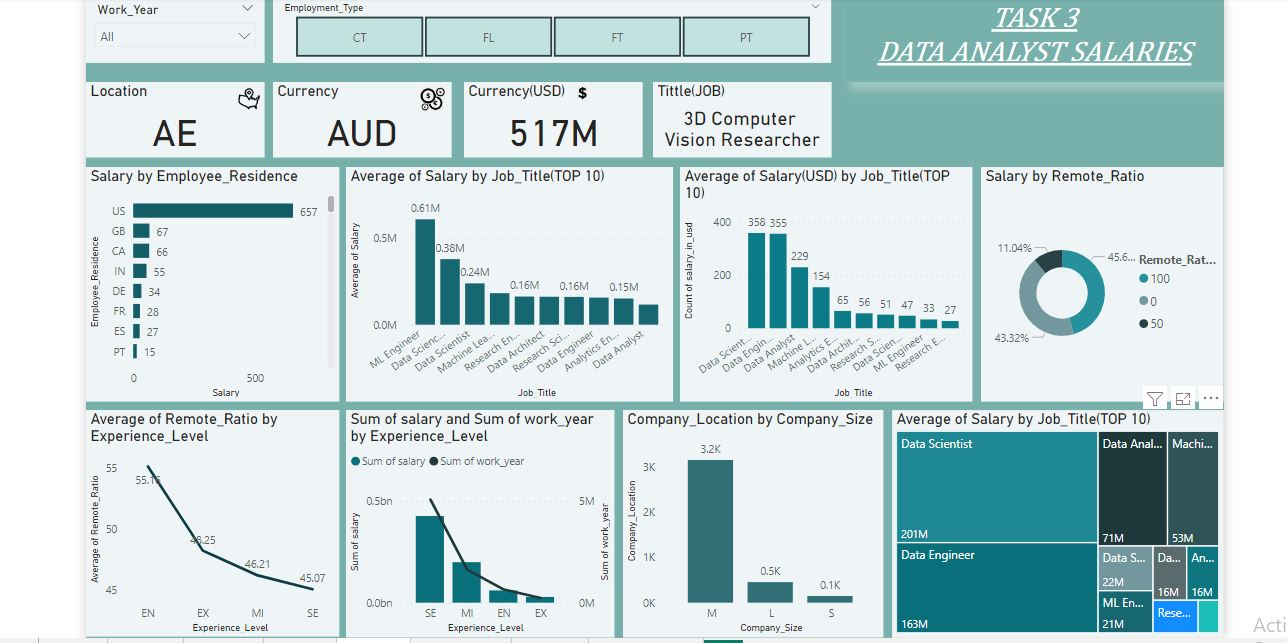

The dashboard page shown, as its layout file describes it:
{"tool":"powerbi","page":{"name":"Task 8","canvas":[1280,720],"ordinal":5},"visuals":[{"type":"slicer","fields":{"Values":["DS_Salaries New.employment_type"]},"box":[210.8,0,627.7,72.9],"z":0},{"type":"card","title":"Currency(USD)","fields":{"Values":["Sum(DS_Salaries New.salary_in_usd)"]},"box":[424.9,94.6,200.5,85.4],"z":0,"group":"g1"},{"type":"slicer","fields":{"Values":["DS_Salaries New.work_year"]},"box":[0,0,200.5,72.9],"z":1000},{"type":"image","box":[545.6,94.5,24.8,24.8],"z":1000,"group":"g1"},{"type":"card","title":"Location","fields":{"Values":["Min(DS_Salaries New.company_location)"]},"box":[0,94.6,200.5,85.4],"z":2000,"group":"g3"},{"type":"lineStackedColumnComboChart","fields":{"Category":["DS_Salaries New.experience_level"],"Y":["Sum(DS_Salaries New.salary)"],"Y2":["Sum(DS_Salaries New.work_year)"]},"box":[293,463.9,302,255.7],"z":3000},{"type":"card","title":"Currency","fields":{"Values":["Min(DS_Salaries New.salary_currency)"]},"box":[210.8,94.6,200.5,85.4],"z":4000,"group":"g2"},{"type":"card","title":"Tittle(JOB)","fields":{"Values":["Min(DS_Salaries New.job_title)"]},"box":[638,94.6,200.5,85.4],"z":6000,"group":"g4"},{"type":"clusteredBarChart","fields":{"Category":["DS_Salaries New.employee_residence"],"Y":["Count(DS_Salaries New.salary)"]},"box":[0,190.1,284.6,264.4],"z":7000},{"type":"clusteredColumnChart","fields":{"Category":["DS_Salaries New.company_size"],"Y":["CountNonNull(DS_Salaries New.company_location)"]},"box":[604,463.9,293,255.7],"z":8000},{"type":"donutChart","fields":{"Y":["Count(DS_Salaries New.salary)"],"Category":["DS_Salaries New.remote_ratio"]},"box":[1007.1,190.3,273.4,264.3],"z":9000},{"type":"clusteredColumnChart","title":"Average of Salary by Job_Title(TOP 10)","fields":{"Category":["DS_Salaries New.job_title"],"Y":["Avg(DS_Salaries New.salary)"]},"box":[292.5,190.1,367.9,264.4],"z":10000},{"type":"treemap","title":"Average of Salary by Job_Title(TOP 10)","fields":{"Group":["DS_Salaries New.job_title"],"Values":["Sum(DS_Salaries New.salary)"]},"box":[907.3,463.9,372.7,255.7],"z":11000},{"type":"clusteredColumnChart","title":"Average of Salary(USD) by Job_Title(TOP 10)","fields":{"Category":["DS_Salaries New.job_title"],"Y":["Count(DS_Salaries New.salary_in_usd)"]},"box":[668.2,190.1,328.5,264.4],"z":12000},{"type":"lineChart","fields":{"Category":["DS_Salaries New.experience_level"],"Y":["Avg(DS_Salaries New.remote_ratio)"]},"box":[0,463.5,284.6,255.4],"z":13000},{"type":"textbox","box":[854.4,0,426.1,94.6],"z":14000},{"type":"group","id":"g1","title":"Group 1","box":[424.9,94.5,200.5,85.5],"z":15001,"group":"g4"},{"type":"image","box":[367.9,94.5,42.8,37.1],"z":15502,"group":"g2"},{"type":"group","id":"g2","title":"Group 2","box":[210.8,94.5,200.5,85.5],"z":15503,"group":"g4"},{"type":"image","box":[166.5,94.5,33.8,37.1],"z":16004,"group":"g3"},{"type":"group","id":"g3","title":"Group 3","box":[0,94.5,200.5,85.5],"z":16005,"group":"g4"},{"type":"group","id":"g4","title":"Group 4","box":[0,94.5,838.5,85.5],"z":16006}]}

Visuals, with their boxes in screenshot pixels (x1, y1, x2, y2):
slicer - DS_Salaries New.employment_type: bbox(273, 0, 826, 64)
"Currency(USD)" card: bbox(462, 83, 638, 159)
slicer - DS_Salaries New.work_year: bbox(87, 0, 264, 64)
image: bbox(568, 83, 590, 105)
"Location" card: bbox(87, 83, 264, 159)
lineStackedColumnComboChart - DS_Salaries New.experience_level x Sum(DS_Salaries New.salary): bbox(345, 409, 612, 634)
"Currency" card: bbox(273, 83, 450, 159)
"Tittle(JOB)" card: bbox(649, 83, 826, 159)
clusteredBarChart - DS_Salaries New.employee_residence x Count(DS_Salaries New.salary): bbox(87, 168, 338, 401)
clusteredColumnChart - DS_Salaries New.company_size x CountNonNull(DS_Salaries New.company_location): bbox(619, 409, 878, 634)
donutChart - Count(DS_Salaries New.salary) x DS_Salaries New.remote_ratio: bbox(975, 168, 1216, 401)
"Average of Salary by Job_Title(TOP 10)" clusteredColumnChart: bbox(345, 168, 669, 401)
"Average of Salary by Job_Title(TOP 10)" treemap: bbox(887, 409, 1215, 634)
"Average of Salary(USD) by Job_Title(TOP 10)" clusteredColumnChart: bbox(676, 168, 966, 401)
lineChart - DS_Salaries New.experience_level x Avg(DS_Salaries New.remote_ratio): bbox(87, 409, 338, 634)
textbox: bbox(840, 0, 1216, 83)
"Group 1" group: bbox(462, 83, 638, 159)
image: bbox(411, 83, 449, 116)
"Group 2" group: bbox(273, 83, 450, 159)
image: bbox(234, 83, 264, 116)
"Group 3" group: bbox(87, 83, 264, 159)
"Group 4" group: bbox(87, 83, 826, 159)
